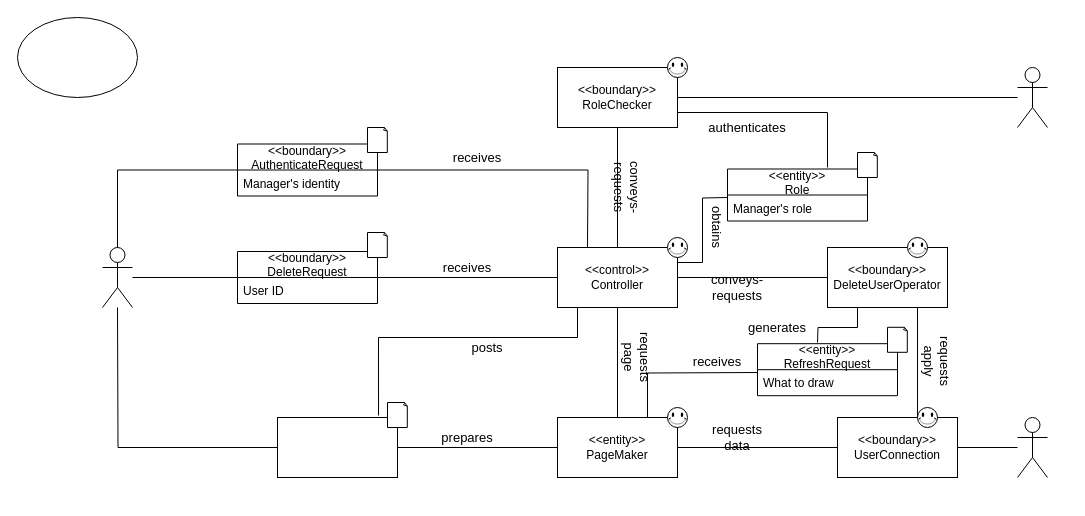
Image size: 1085x516. Some labels were removed from this diagram. The centre of each missing label's shape, as x and y in pixels:
<<boundary>> InterfacePage: point (337, 447)
Authenticator: point (1032, 97)
BUC-9 DeleteUser: point (77, 57)
Manager: point (117, 277)
User: point (1032, 447)
